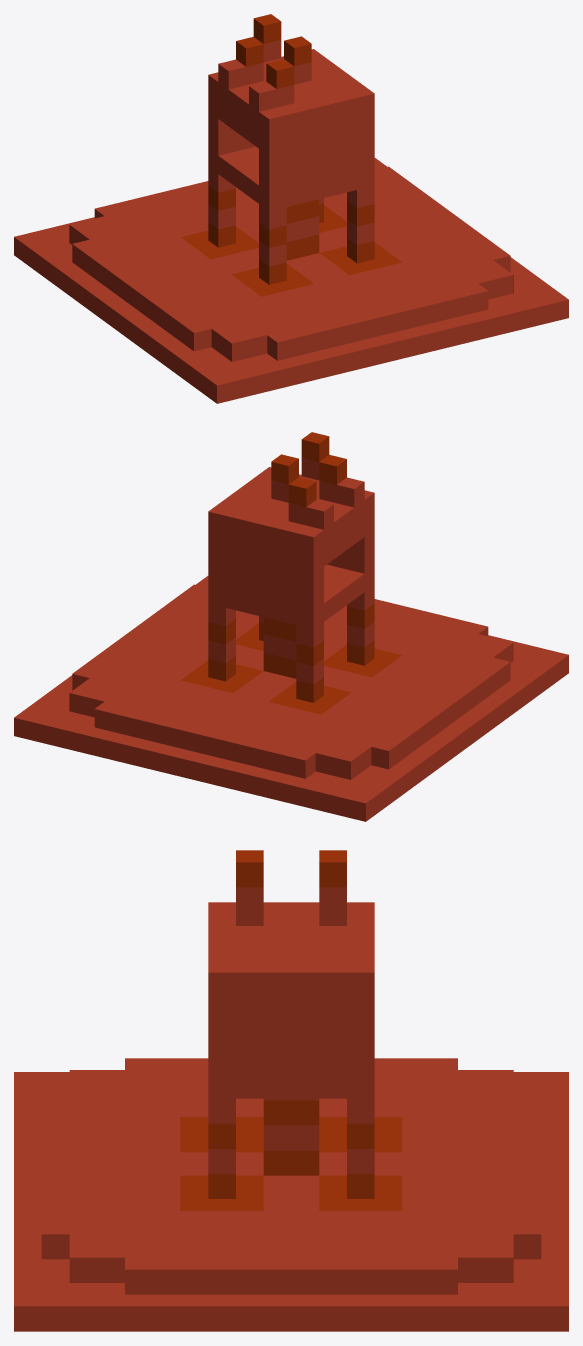
Rendered from ipro2_hid.fbx.
3 renders of one model, top to bottom at view 1: azimuth 30°, elevation 25°; view 2: azimuth 150°, elevation 25°; view 3: azimuth 270°, elevation 25°, orthographic. The views are drawn at different scales.
Visible parts, largest first — view 1: ipro3_hid; view 2: ipro3_hid; view 3: ipro3_hid.
Part boxes in pixels (x1,y1,x2,y2): ipro3_hid: (14,14,568,403); ipro3_hid: (14,432,568,821); ipro3_hid: (14,850,568,1331).
Size of the model in its own units: 200 by 140 by 200.
